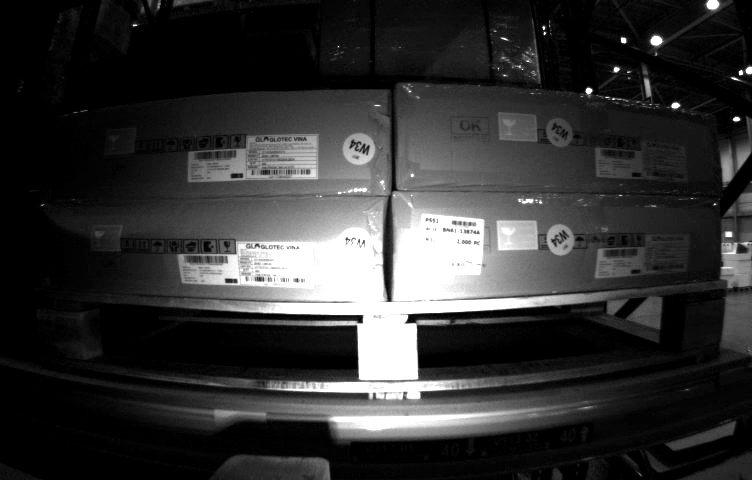True Barcode: (418, 210, 485, 275)
